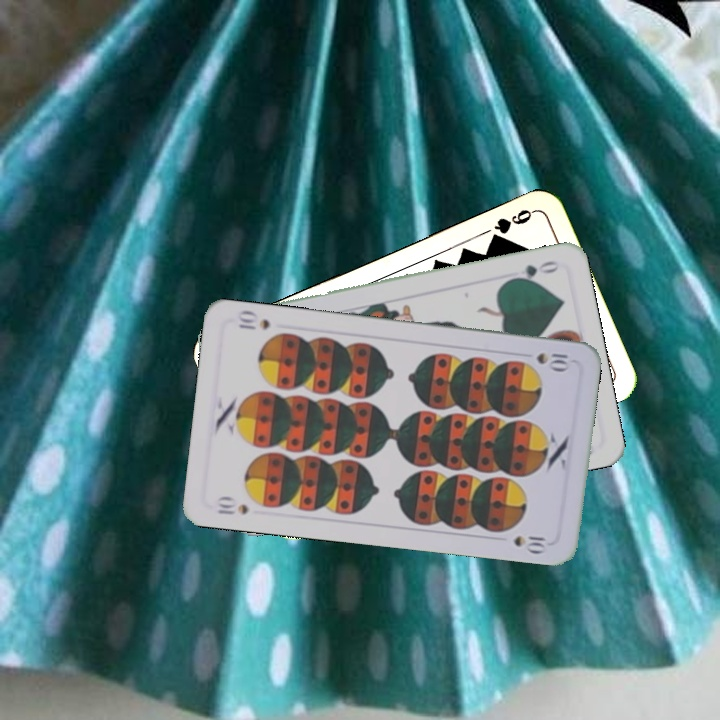G9: (486, 205, 538, 245)
GO: (505, 257, 562, 284)
S10: (213, 493, 251, 518), (532, 349, 571, 372)
